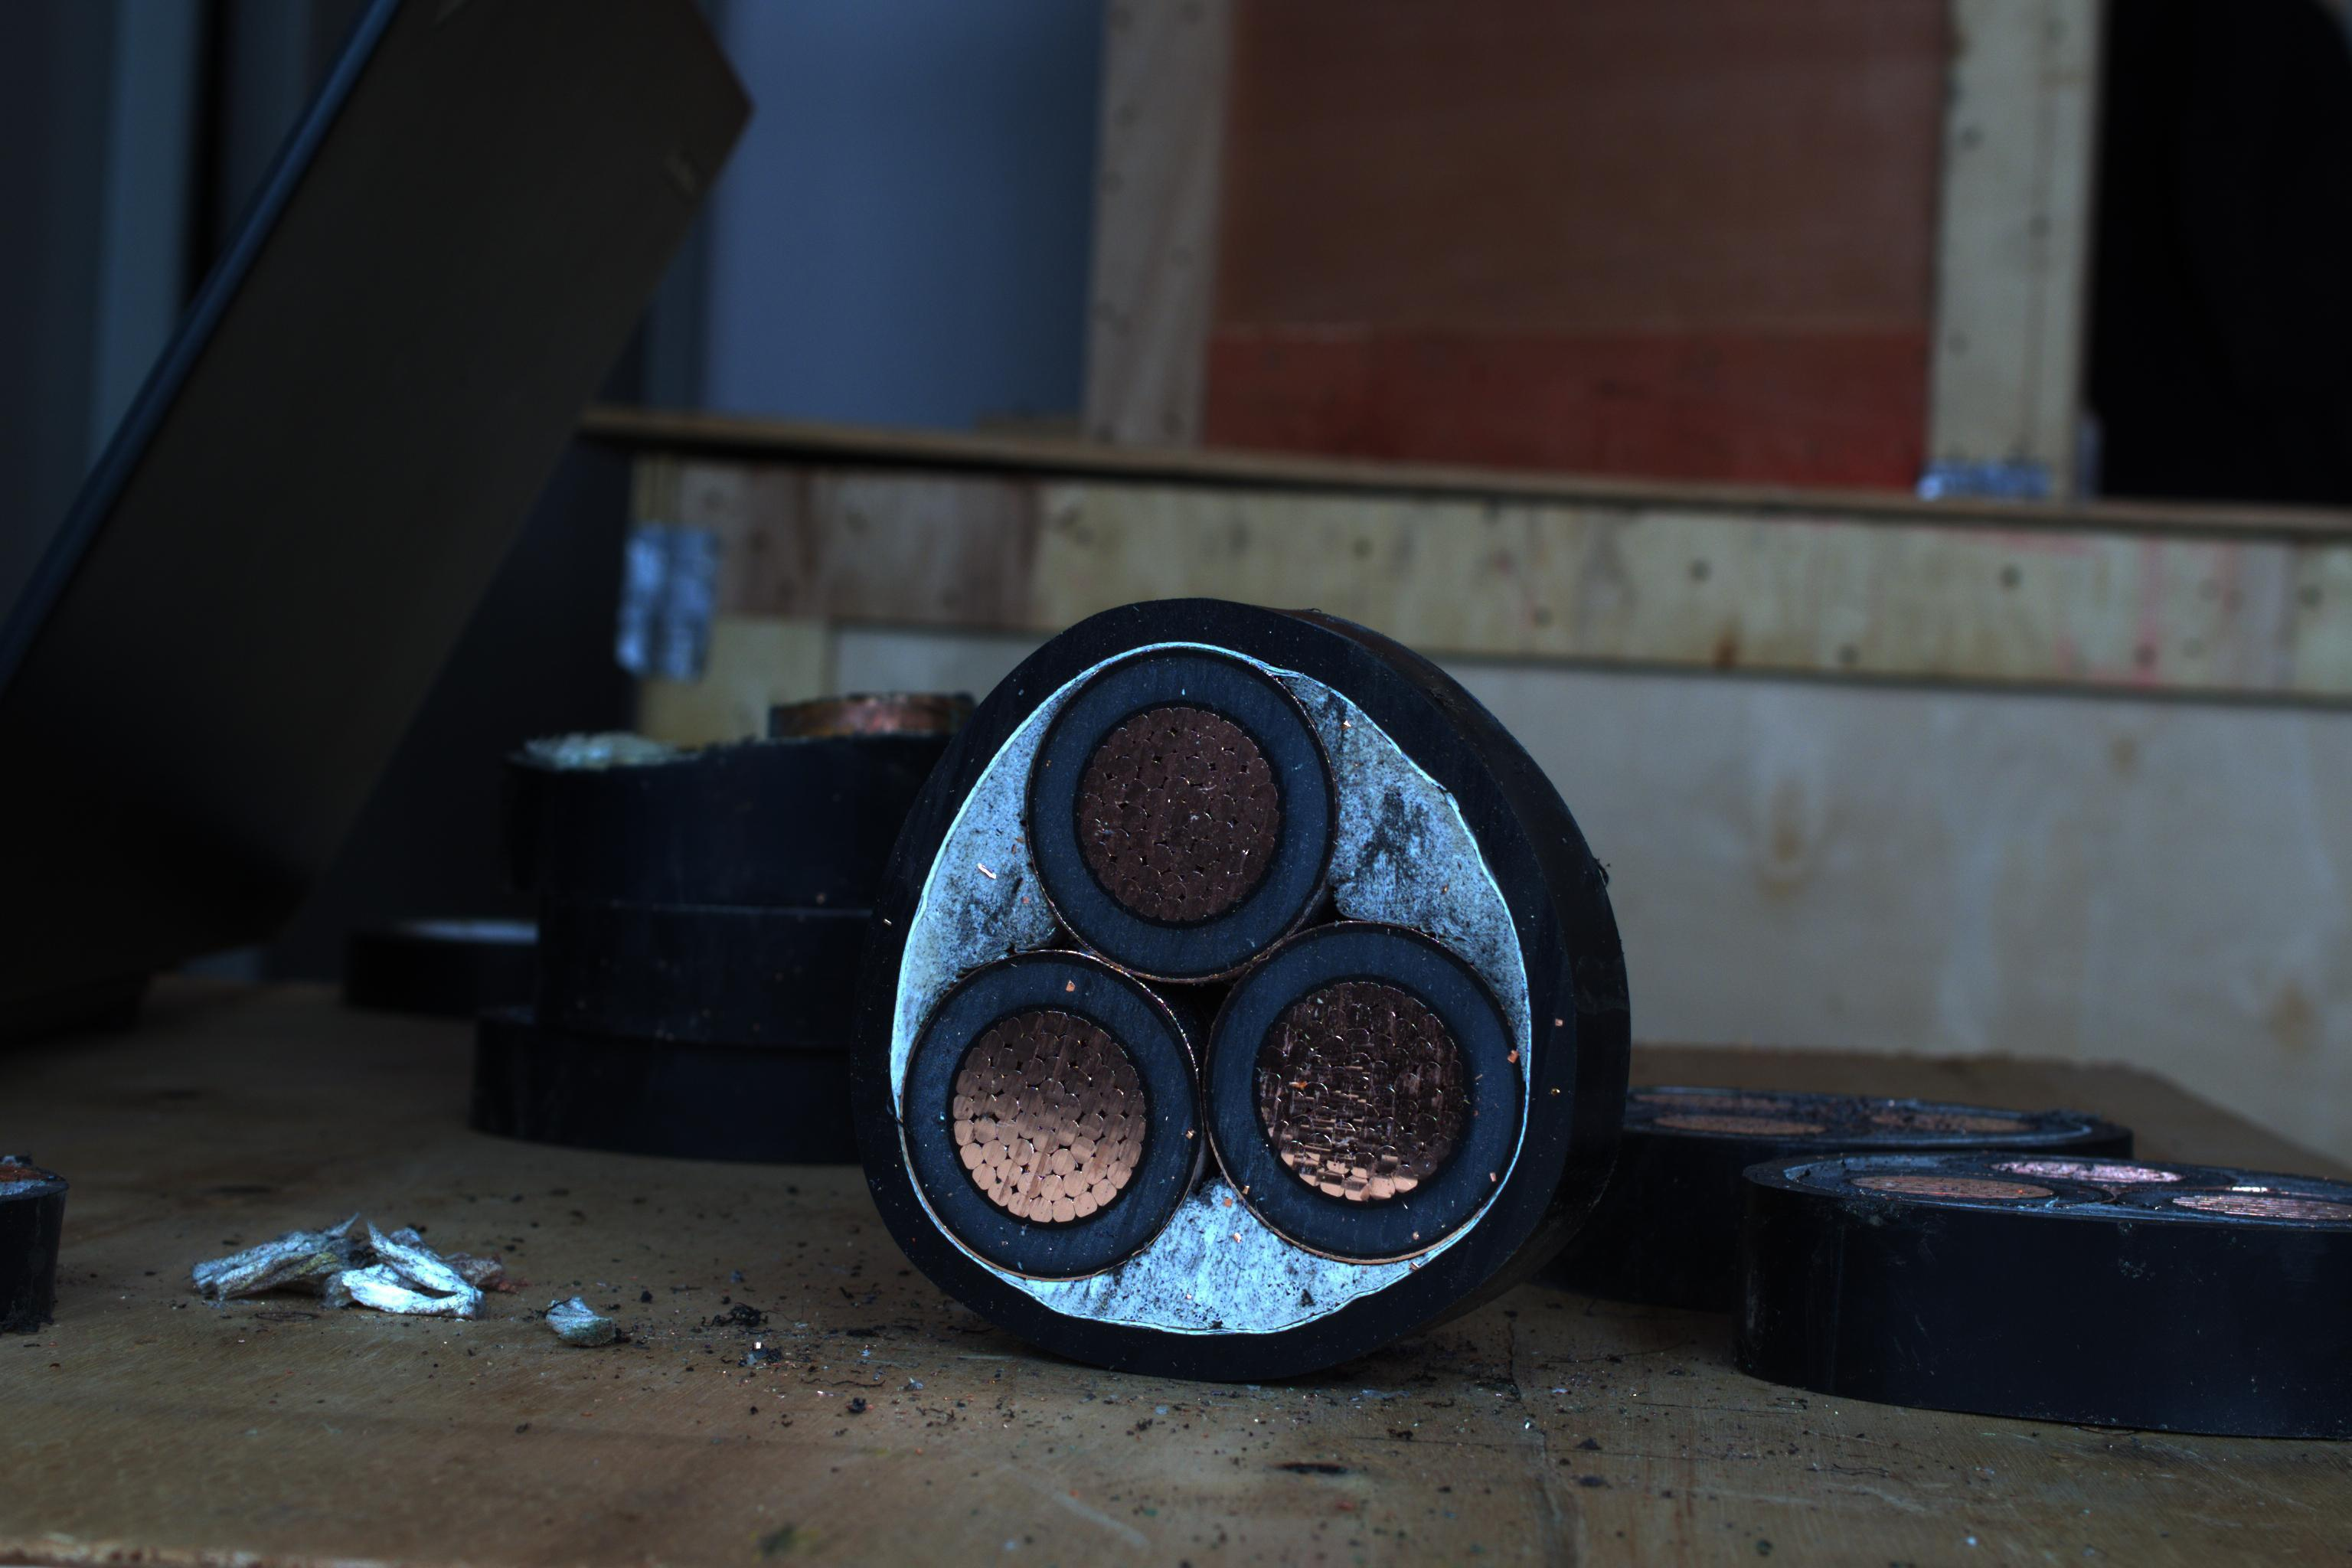ZA_YJV_8.7_10kV_3x400: (856, 616, 1573, 1347)
